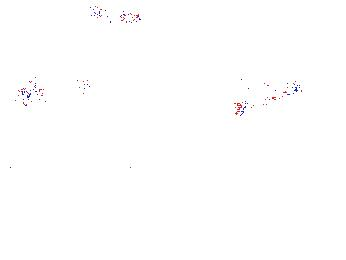X-ray fish: (55, 69, 104, 104), (77, 215, 124, 250)
glassfish: (219, 102, 326, 168)
red belly glassfish: (92, 4, 143, 26)
redtail glassfish: (232, 80, 302, 119), (227, 72, 301, 93), (16, 69, 49, 106)
